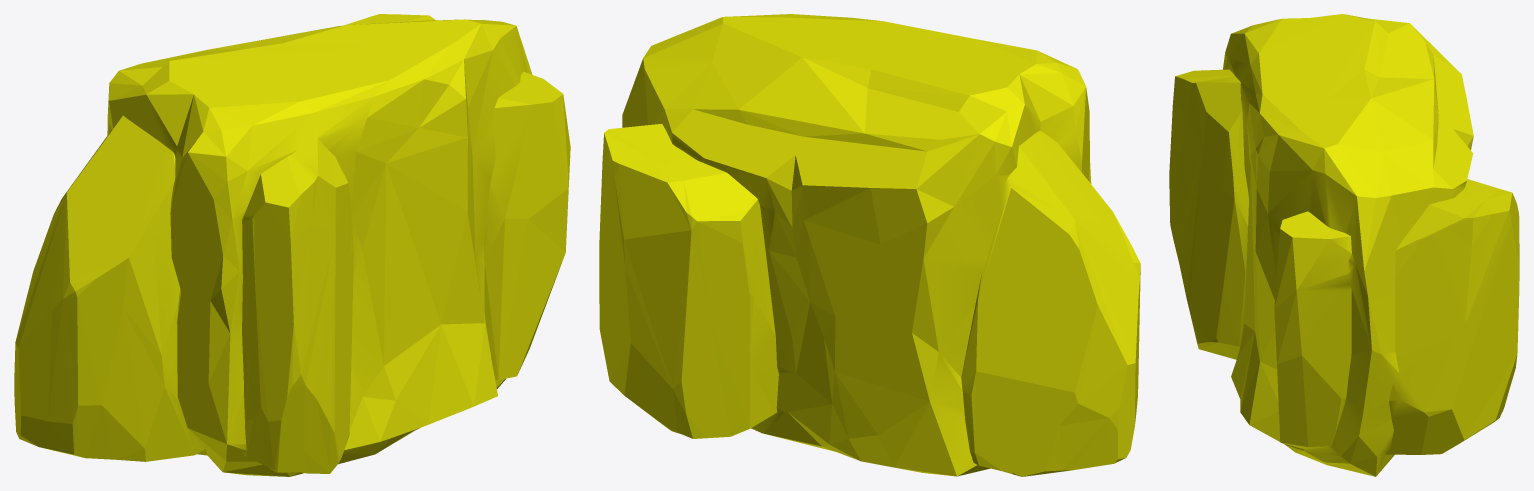
The model's file is trp_cliff2.glb.
3 renders of one model, left to right at view 1: azimuth 30°, elevation 25°; view 2: azimuth 150°, elevation 25°; view 3: azimuth 270°, elevation 25°, orthographic. The views are drawn at different scales.
Visible parts, largest first — view 1: SM_Env_Rock_Cliff_02; view 2: SM_Env_Rock_Cliff_02; view 3: SM_Env_Rock_Cliff_02.
Part boxes in pixels (x1=…): SM_Env_Rock_Cliff_02: x1=14, y1=14, x2=570, y2=476; SM_Env_Rock_Cliff_02: x1=599, y1=14, x2=1140, y2=476; SM_Env_Rock_Cliff_02: x1=1169, y1=14, x2=1519, y2=476.
Bounding box in the file's own units: 11.85 × 8.18 × 7.99.
Materials: 1 (1 with a texture image).
